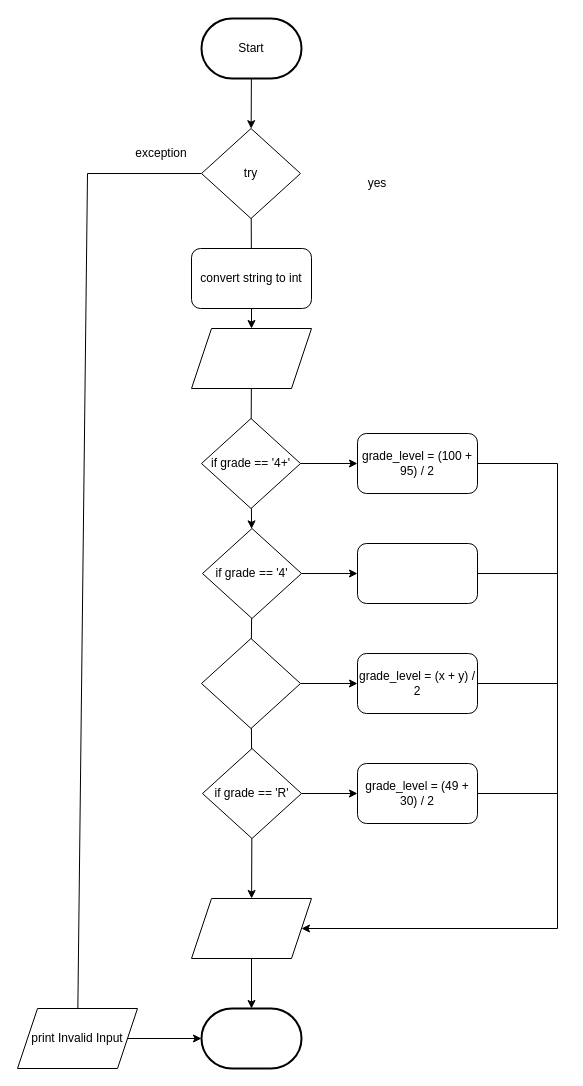
Some shapes in this 583 by 1086 pixel diagram are drawn without their labels. The box of each missing label's shape, as (x1, y1, x2, y2) in pixels:
Get grade: (190, 328, 312, 388)
grade_level = (94 + 87) / 2: (356, 542, 478, 604)
if grade == '...': (200, 638, 300, 728)
print grade_level: (190, 898, 312, 958)
Stop: (200, 1007, 302, 1069)
